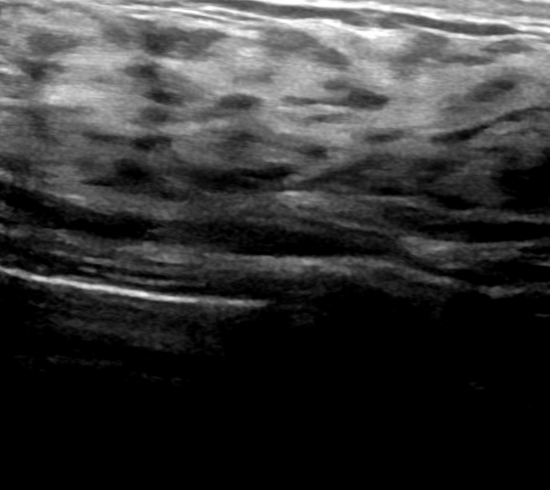Normal: (4, 8, 550, 458)
